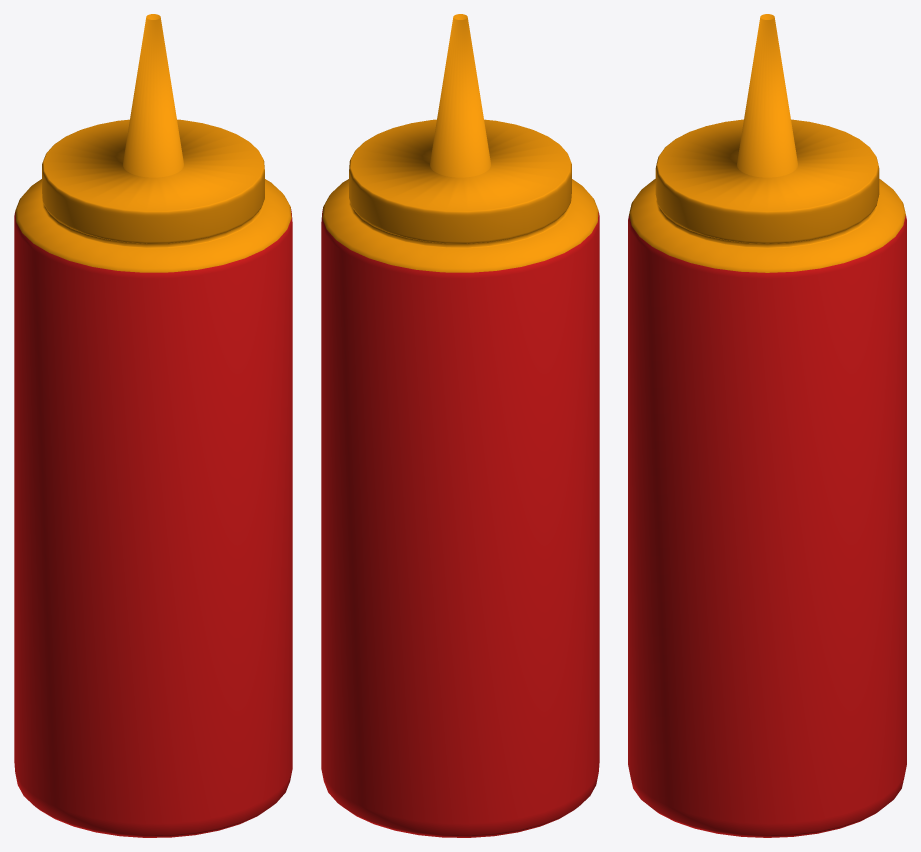
Rendered from ketchap.fbx.
3 views of the same model, side by side, from view 1: azimuth 30°, elevation 25°; view 2: azimuth 150°, elevation 25°; view 3: azimuth 270°, elevation 25° (orthographic).
Parts seen in each view (by area): view 1: Cylinder.001; view 2: Cylinder.001; view 3: Cylinder.001.
Boxes of the visible parts, x1,y1,x2,y2 form: Cylinder.001: (14, 14, 292, 837); Cylinder.001: (321, 14, 599, 837); Cylinder.001: (628, 14, 906, 837).
Size of the model in its own units: 20.23 by 61.28 by 20.23.
